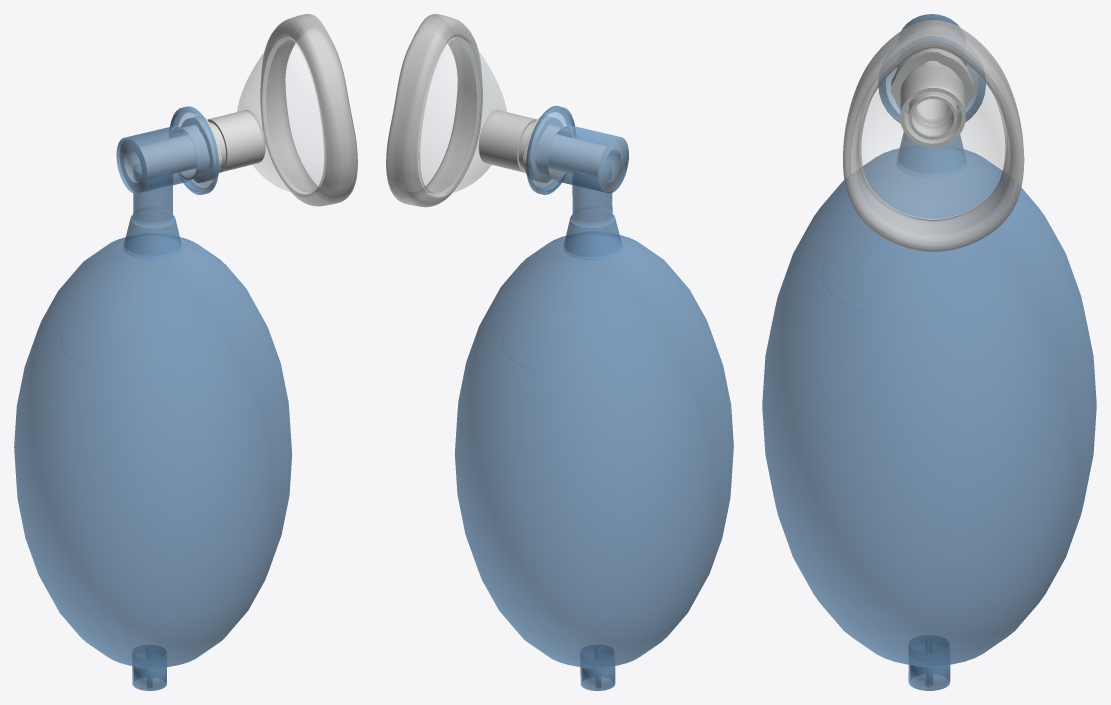
File: Bag_Valve_Mask.fbx
The picture shows the model from 3 angles, left to right: view 1: azimuth 30°, elevation 25°; view 2: azimuth 150°, elevation 25°; view 3: azimuth 270°, elevation 25°; orthographic projection. The views are drawn at different scales.
Parts seen in each view (by area): view 1: Sphere, Object_5, Object_129, Object_118.038, Object_116.010, Object_116.015, Object_118.004, Object_125, Object_116.004, Object_116.002, Object_116.001; view 2: Sphere, Object_5, Object_129, Object_118.038, Object_116.010, Object_116.015, Object_118.004, Object_125, Object_116.004, Object_116.002, Object_116.001; view 3: Sphere, Object_5, Object_116.010, Object_118.038, Object_125, Object_129, Object_116.004, Object_116.015, Object_116.012.
Part boxes in pixels (<box>): Sphere: <box>14,233,292,668</box>; Object_5: <box>237,14,357,206</box>; Object_129: <box>116,106,218,195</box>; Object_118.038: <box>123,210,181,259</box>; Object_116.010: <box>207,110,265,172</box>; Object_116.015: <box>124,134,196,182</box>; Object_118.004: <box>130,169,175,228</box>; Object_125: <box>132,645,166,690</box>; Object_116.004: <box>181,116,221,182</box>; Object_116.002: <box>172,125,209,177</box>; Object_116.001: <box>120,139,146,191</box>; Sphere: <box>454,231,733,668</box>; Object_5: <box>386,14,506,207</box>; Object_129: <box>526,105,628,194</box>; Object_118.038: <box>563,209,622,259</box>; Object_116.010: <box>478,110,536,172</box>; Object_116.015: <box>548,134,620,182</box>; Object_118.004: <box>570,169,614,227</box>; Object_125: <box>580,645,615,690</box>; Object_116.004: <box>523,116,562,182</box>; Object_116.002: <box>535,124,572,177</box>; Object_116.001: <box>598,139,624,191</box>; Sphere: <box>762,145,1096,667</box>; Object_5: <box>843,20,1024,251</box>; Object_116.010: <box>900,65,965,147</box>; Object_118.038: <box>896,132,966,177</box>; Object_125: <box>908,635,950,690</box>; Object_129: <box>878,14,985,123</box>; Object_116.004: <box>891,48,973,109</box>; Object_116.015: <box>912,99,953,129</box>; Object_116.012: <box>908,91,956,136</box>.
Bounding box in the file's own units: 678 × 1394 × 559.
